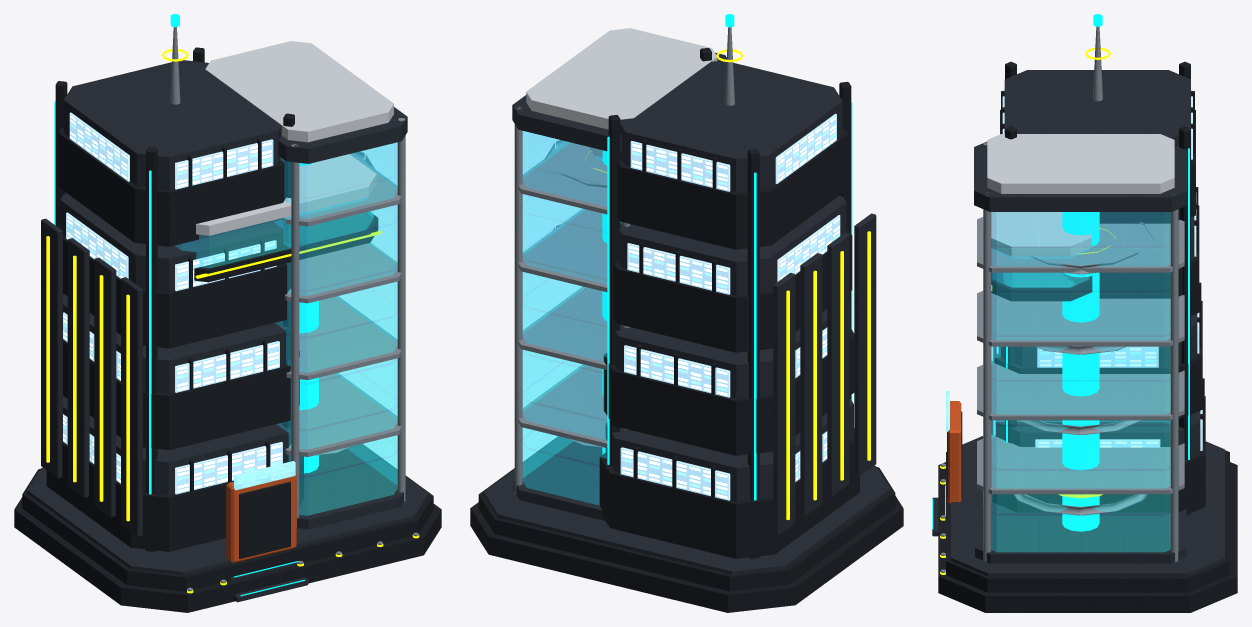
Rendered from bldg_12_r1_05.glb.
3 views of the same model, side by side, from view 1: azimuth 30°, elevation 25°; view 2: azimuth 150°, elevation 25°; view 3: azimuth 270°, elevation 25° (orthographic). The views are drawn at different scales.
Parts seen in each view (by area): view 1: Bldg12_C05_gunmetal, Bldg12_C05_carbon_slate, Bldg12_C05_glass_cyan, Bldg12_C05_steel_machined, Bldg12_C05_aero_white, Bldg12_C05_window_lit, Bldg12_C05_led_amber, Bldg12_C05_led_cyan, Bldg12_C05_accent_orange, Bldg12_C05_marquee; view 2: Bldg12_C05_gunmetal, Bldg12_C05_carbon_slate, Bldg12_C05_glass_cyan, Bldg12_C05_steel_machined, Bldg12_C05_window_lit, Bldg12_C05_aero_white, Bldg12_C05_led_amber, Bldg12_C05_led_cyan; view 3: Bldg12_C05_glass_cyan, Bldg12_C05_steel_machined, Bldg12_C05_carbon_slate, Bldg12_C05_gunmetal, Bldg12_C05_aero_white, Bldg12_C05_led_cyan, Bldg12_C05_window_lit, Bldg12_C05_accent_orange, Bldg12_C05_led_amber.
Boxes of the visible parts, x1,y1,x2,y2 form: Bldg12_C05_gunmetal: (14,47,441,612); Bldg12_C05_carbon_slate: (27,60,428,602); Bldg12_C05_glass_cyan: (175,142,397,515); Bldg12_C05_steel_machined: (170,27,418,591); Bldg12_C05_aero_white: (196,41,393,235); Bldg12_C05_window_lit: (63,112,282,494); Bldg12_C05_led_amber: (46,49,419,593); Bldg12_C05_led_cyan: (54,14,318,596); Bldg12_C05_accent_orange: (226,473,296,562); Bldg12_C05_marquee: (234,461,295,490); Bldg12_C05_gunmetal: (470,48,903,612); Bldg12_C05_carbon_slate: (483,52,890,574); Bldg12_C05_glass_cyan: (522,131,621,505); Bldg12_C05_steel_machined: (514,27,734,494); Bldg12_C05_window_lit: (620,113,840,500); Bldg12_C05_aero_white: (526,28,717,157); Bldg12_C05_led_amber: (584,49,870,520); Bldg12_C05_led_cyan: (602,14,852,500); Bldg12_C05_glass_cyan: (983,209,1170,551); Bldg12_C05_steel_machined: (940,26,1184,572); Bldg12_C05_carbon_slate: (932,70,1224,576); Bldg12_C05_gunmetal: (938,61,1237,612); Bldg12_C05_aero_white: (987,134,1174,256); Bldg12_C05_led_cyan: (932,14,1189,531); Bldg12_C05_window_lit: (993,89,1202,450); Bldg12_C05_accent_orange: (947,401,961,503); Bldg12_C05_led_amber: (940,48,1115,574).
Bounding box in the file's own units: 12.5 × 19.32 × 10.71.
10 materials, 10 textured.
